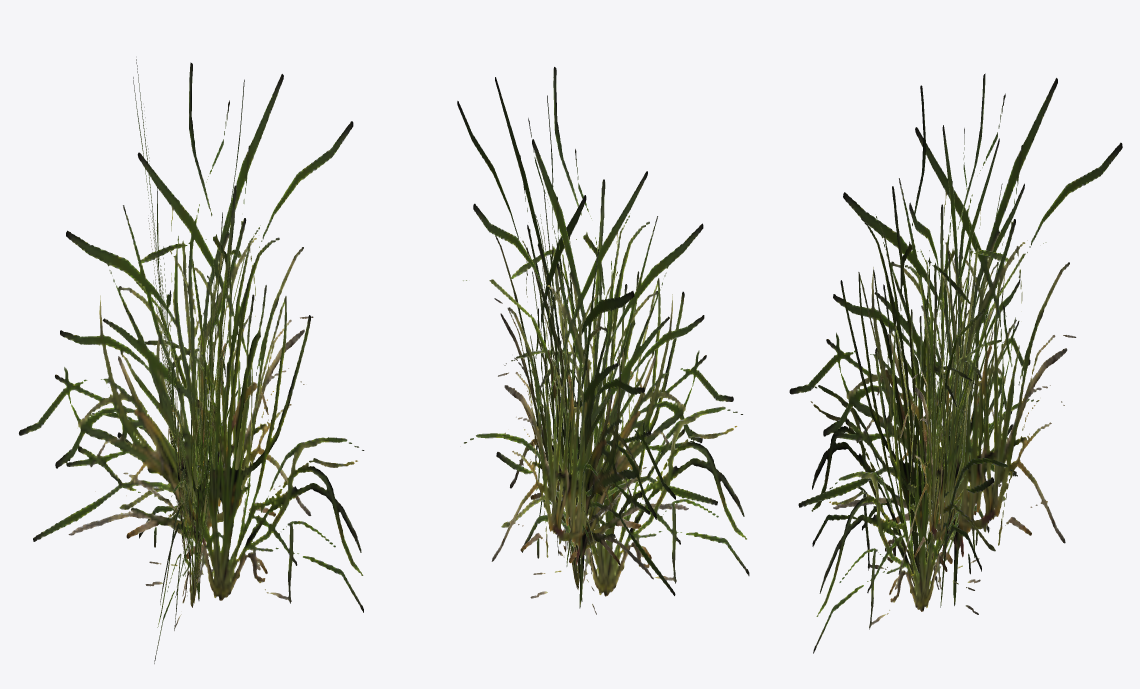
The model's file is reed.glb.
The picture shows the model from 3 angles, left to right: view 1: azimuth 30°, elevation 25°; view 2: azimuth 150°, elevation 25°; view 3: azimuth 270°, elevation 25°; orthographic projection. The views are drawn at different scales.
Parts seen in each view (by area): view 1: reed; view 2: reed; view 3: reed.
Boxes of the visible parts, x1,y1,x2,y2 form: reed: (19, 59, 364, 663); reed: (457, 67, 749, 614); reed: (789, 73, 1122, 653).
Bounding box in the file's own units: 0.4594 × 0.8056 × 0.4618.
1 material, 1 textured.
